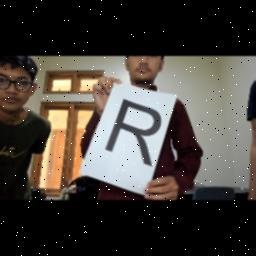r: (98, 94, 160, 170)
